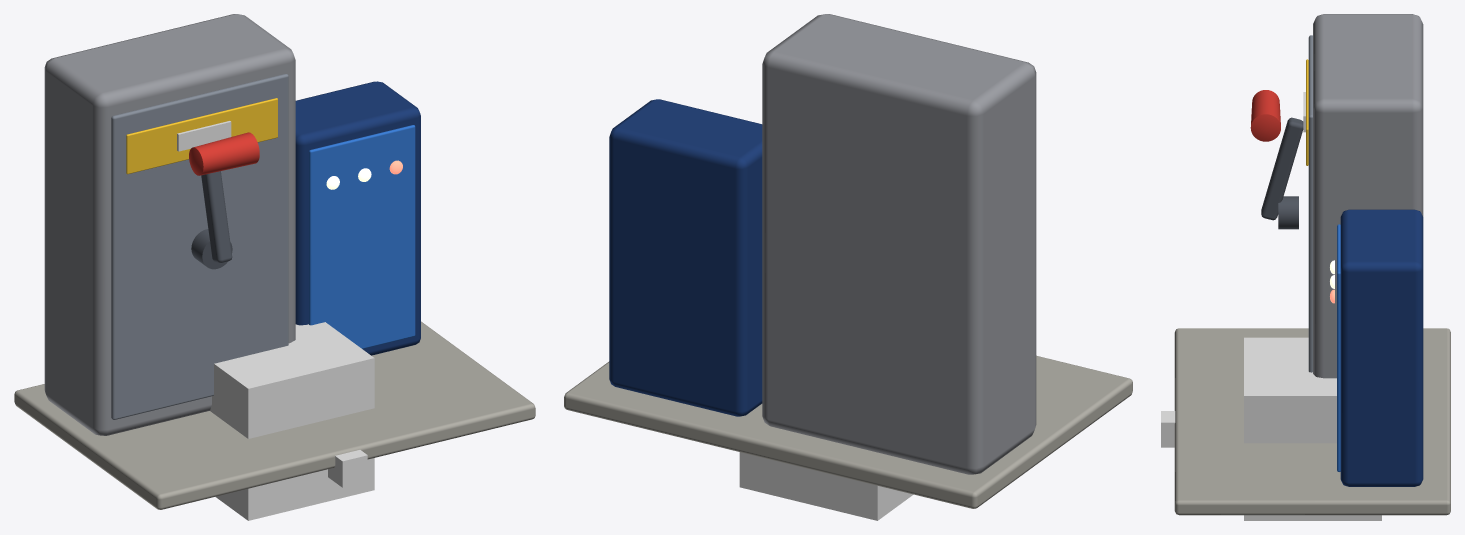
The model's file is Breaker.fbx.
3 renders of one model, left to right at view 1: azimuth 30°, elevation 25°; view 2: azimuth 150°, elevation 25°; view 3: azimuth 270°, elevation 25°, orthographic. The views are drawn at different scales.
Parts seen in each view (by area): view 1: Body__Steel, Body__Grey, Body__Concrete, Body__Blue, Origin__Pivot, Body__BlueDark, Body__Yellow, Body__MetalDark, Body__Red, Origin__AxisZ, Body__Black!1; view 2: Body__Grey, Body__BlueDark, Body__Concrete, Origin__Pivot; view 3: Body__Concrete, Body__Grey, Body__BlueDark, Origin__Pivot, Body__MetalDark, Body__Steel, Body__Red, Body__Blue, Origin__AxisZ.
Part boxes in pixels (box(x1,y1,x2,y2)): Body__Steel: box(111, 74, 288, 419); Body__Grey: box(44, 14, 295, 435); Body__Concrete: box(14, 321, 535, 509); Body__Blue: box(309, 125, 415, 348); Origin__Pivot: box(210, 322, 374, 520); Body__BlueDark: box(295, 81, 420, 355); Body__Yellow: box(126, 98, 277, 174); Body__MetalDark: box(191, 171, 232, 269); Body__Red: box(189, 132, 259, 175); Origin__AxisZ: box(328, 450, 367, 487); Body__Black!1: box(177, 121, 231, 151); Body__Grey: box(762, 14, 1036, 474); Body__BlueDark: box(609, 99, 762, 416); Body__Concrete: box(564, 355, 1132, 508); Origin__Pivot: box(739, 452, 913, 520); Body__Concrete: box(1174, 328, 1450, 515); Body__Grey: box(1313, 14, 1423, 378); Body__BlueDark: box(1340, 209, 1423, 486); Origin__Pivot: box(1244, 337, 1381, 520); Body__MetalDark: box(1261, 117, 1303, 229); Body__Steel: box(1308, 35, 1312, 372); Body__Red: box(1250, 90, 1280, 141); Body__Blue: box(1337, 224, 1340, 471); Origin__AxisZ: box(1161, 411, 1175, 447).
Size of the model in its own units: 3 by 3.2 by 2.1.
